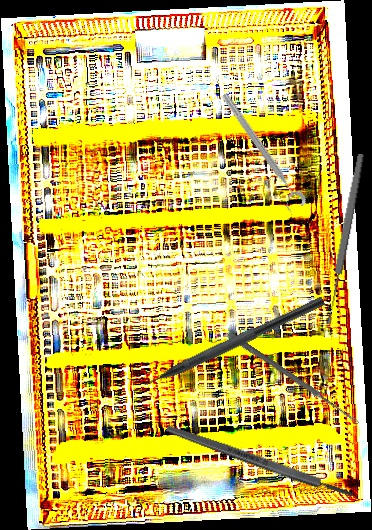Chopper: (125, 283, 326, 398)
Fixation Ring: (211, 90, 309, 215)
Scalpel Handle: (165, 422, 355, 501)
Surgical Spoon: (226, 331, 361, 426), (323, 153, 366, 325)
